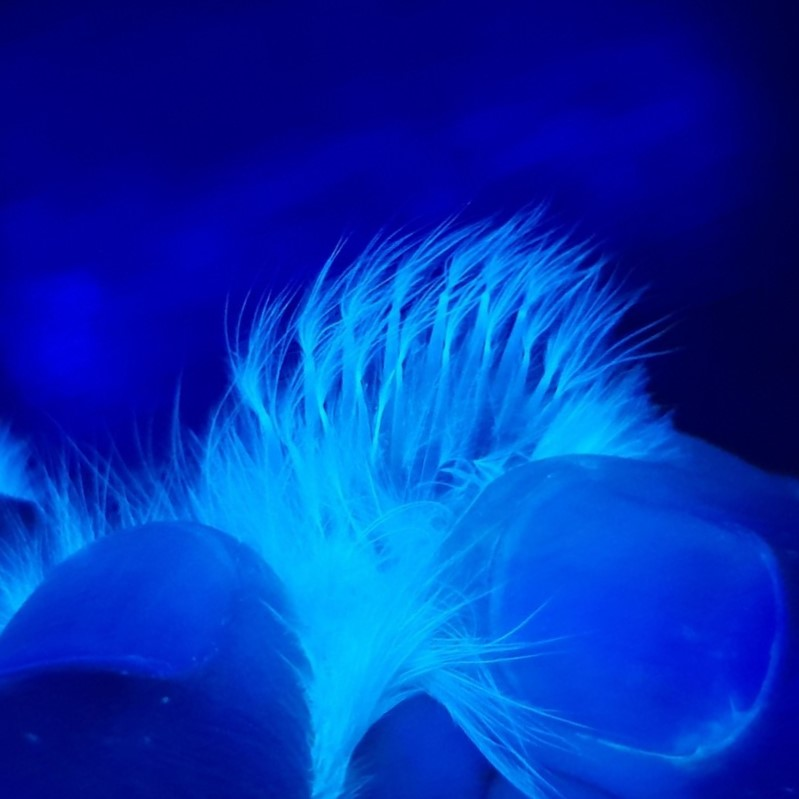female: (266, 271, 575, 567)
